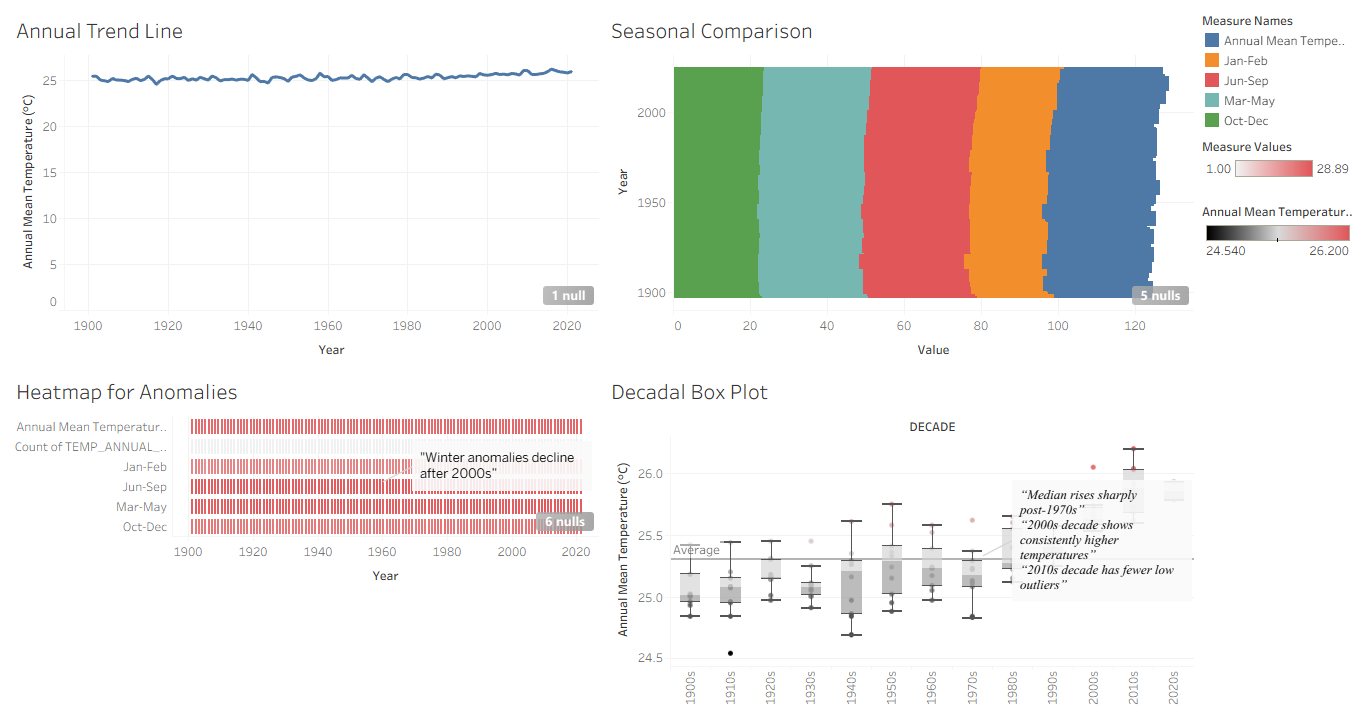

The dashboard page shown, as its layout file describes it:
{"tool":"tableau","page":{"name":"- Climate Data Analysis Dashboard — 1900 to 2020”","canvas":[1000,1000],"units":"permille","ordinal":0},"visuals":[{"type":"worksheet","title":"Annual Trend Line","mark":"Automatic","rows":["ANNUAL"],"cols":["YEAR"],"box":[7.1,15.1,421.9,484.9]},{"type":"worksheet","title":"Seasonal Comparison","mark":"Bar","rows":["YEAR"],"box":[428.9,15.1,421.9,484.9]},{"type":"legend","title":"Seasonal Comparison","param":"[federated.1ssu9611iu15zr13qpgtq15fw3jx].[:Measure Names]","box":[850.8,15.1,142.1,237.7]},{"type":"legend","title":"Heatmap for Anomalies","param":"[federated.1ssu9611iu15zr13qpgtq15fw3jx].[Multiple Values]","box":[850.8,252.8,142.1,122.6]},{"type":"legend","title":"Decadal Box Plot","param":"[federated.1ssu9611iu15zr13qpgtq15fw3jx].[sum:ANNUAL:qk]","box":[850.8,375.5,142.1,122.6]},{"type":"worksheet","title":"Heatmap for Anomalies","mark":"Automatic","cols":["YEAR"],"box":[7.1,500,421.9,484.9]},{"type":"worksheet","title":"Decadal Box Plot","mark":"Circle","rows":["ANNUAL"],"cols":["Calculation_1403024353112065"],"box":[428.9,500,421.9,484.9]}]}

Visuals, with their boxes on the dashboard's canvas, which has no fixed pixel size, in thousandths of its width and height (x1, y1, x2, y2). These are canvas units, not pixel positions in the 1365x728 screenshot, which may show the page scaled, cropped or inside an application window:
"Annual Trend Line" worksheet: region(7, 15, 429, 500)
"Seasonal Comparison" worksheet (Bar marks): region(429, 15, 851, 500)
"Seasonal Comparison" legend: region(851, 15, 993, 253)
"Heatmap for Anomalies" legend: region(851, 253, 993, 375)
"Decadal Box Plot" legend: region(851, 376, 993, 498)
"Heatmap for Anomalies" worksheet: region(7, 500, 429, 985)
"Decadal Box Plot" worksheet (Circle marks): region(429, 500, 851, 985)
